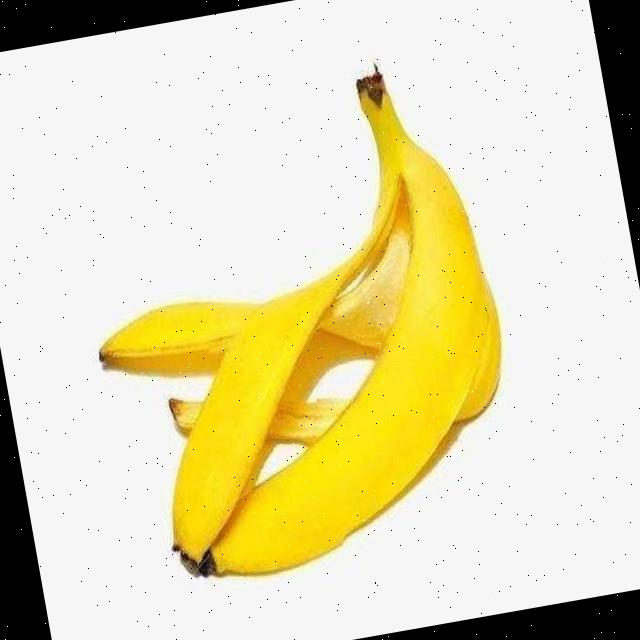banana-peel: (55, 49, 535, 596)
